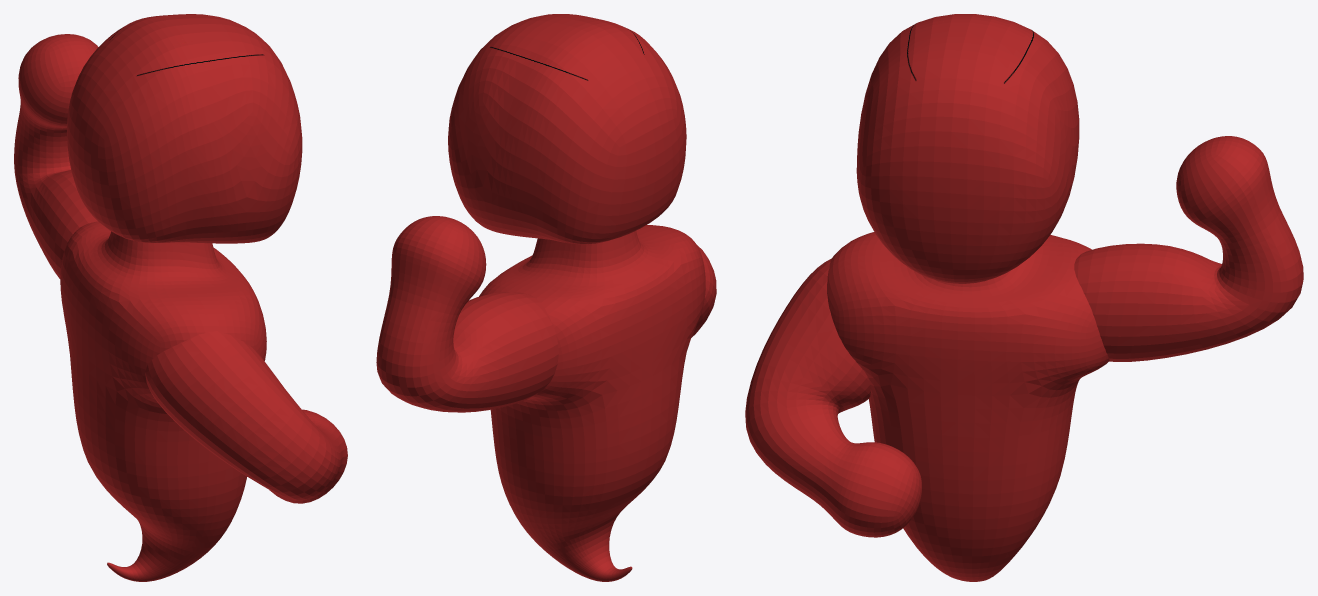
The model's file is strong man.fbx.
3 views of the same model, side by side, from view 1: azimuth 30°, elevation 25°; view 2: azimuth 150°, elevation 25°; view 3: azimuth 270°, elevation 25° (orthographic). The views are drawn at different scales.
Visible parts, largest first — view 1: strong_1; view 2: strong_1; view 3: strong_1.
Part boxes in pixels (x1,y1,x2,y2): strong_1: (14, 14, 347, 581); strong_1: (376, 14, 716, 581); strong_1: (745, 14, 1303, 581).
Size of the model in its own units: 75.93 by 191 by 171.
1 material, 1 textured.
